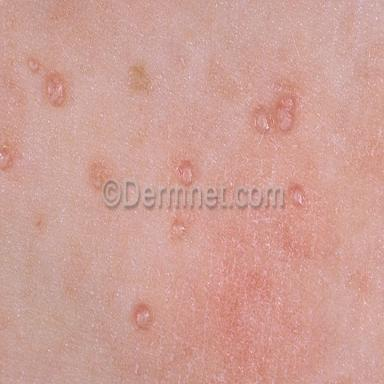Molluscum-Contagiosum: (46, 72, 66, 106), (276, 97, 295, 131), (134, 304, 152, 328), (253, 107, 269, 132), (289, 185, 306, 207), (179, 163, 194, 185), (0, 147, 12, 171), (172, 220, 187, 237), (29, 57, 40, 72)
